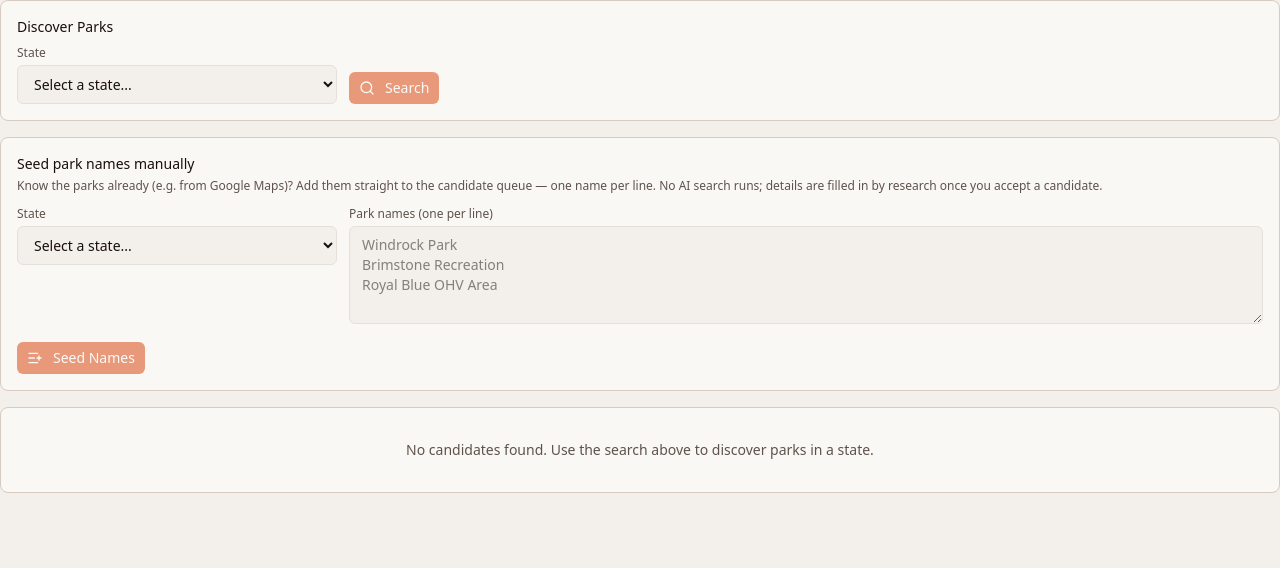
ParkDiscoveryTable › shows error message when discovery fails
Select "California (CA)" in the 1st dropdown: (177, 84) [17, 65, 337, 104]
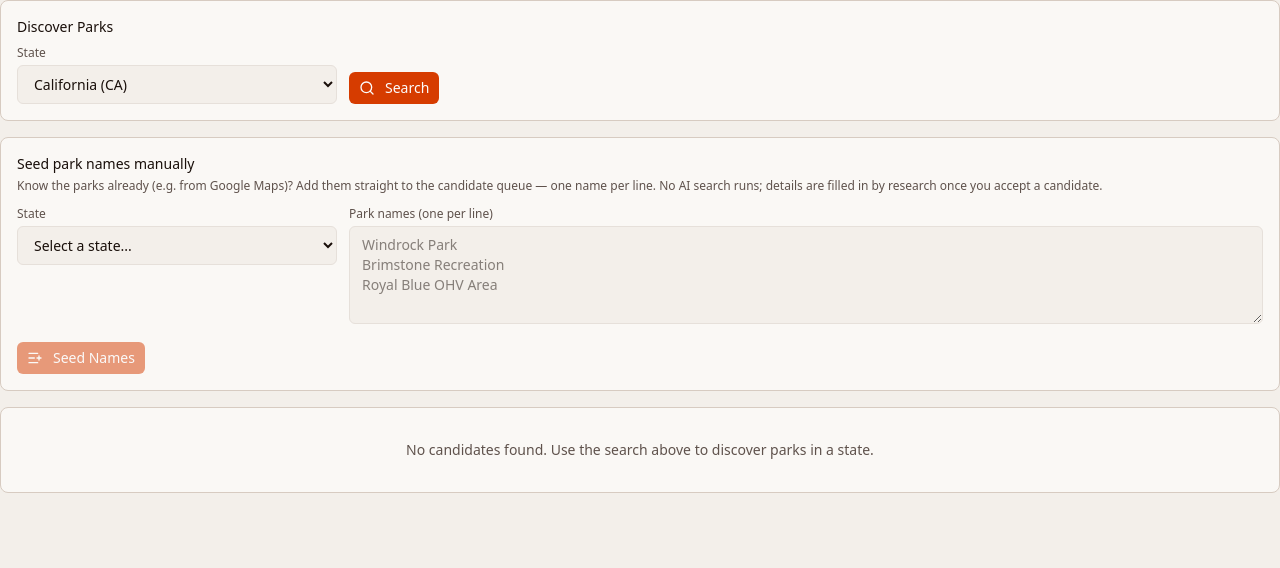
Click the button "Search": click(394, 88) [349, 72, 439, 104]
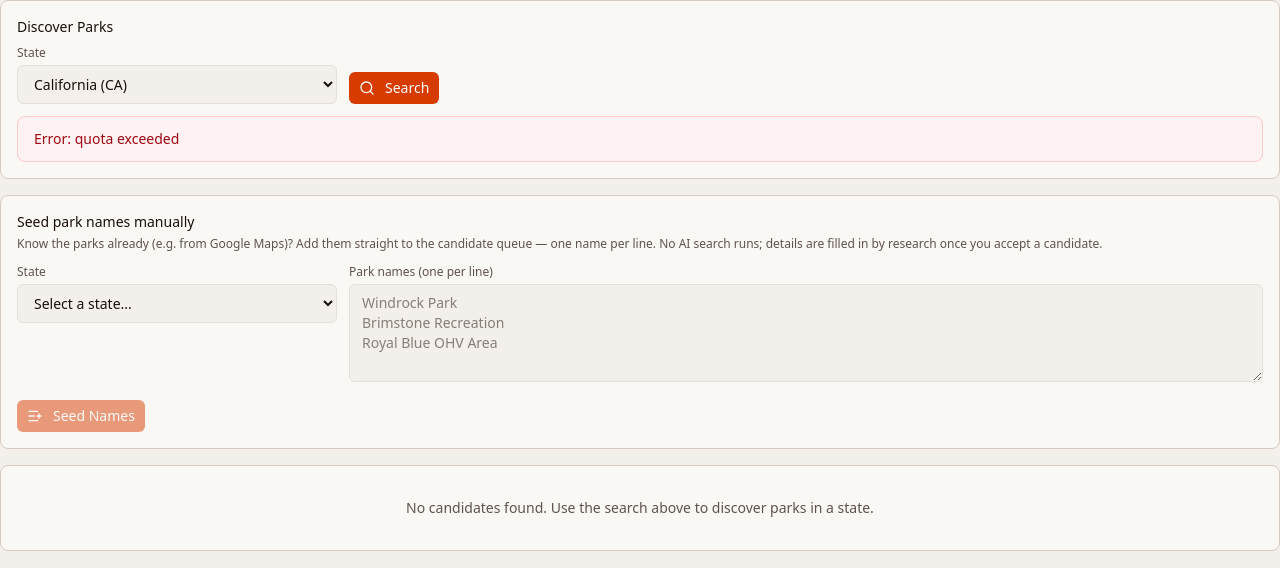
Check: the text "Error: quota exceeded" is shown, box [17, 116, 1263, 162]
